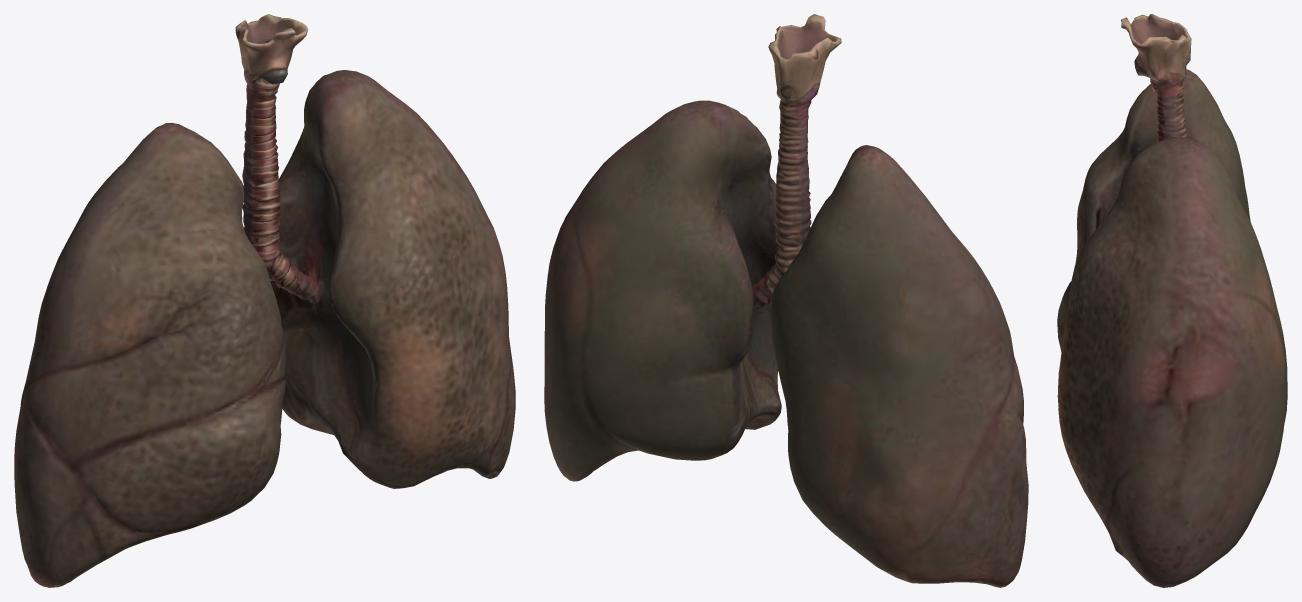
File: loung-cancer.glb
3 views of the same model, side by side, from view 1: azimuth 30°, elevation 25°; view 2: azimuth 150°, elevation 25°; view 3: azimuth 270°, elevation 25° (orthographic). The views are drawn at different scales.
Visible parts, largest first — view 1: LoungCancer; view 2: LoungCancer; view 3: LoungCancer.
Boxes of the visible parts, x1,y1,x2,y2 form: LoungCancer: (14,14,515,587); LoungCancer: (544,14,1028,587); LoungCancer: (1057,14,1287,587).
Bounding box in the file's own units: 0.1931 × 0.2001 × 0.0888.
1 material, 1 textured.
